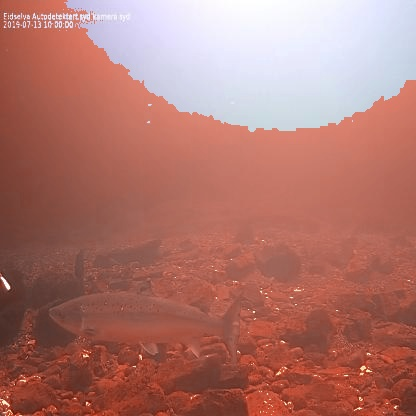salmon: (47, 278, 244, 365)
